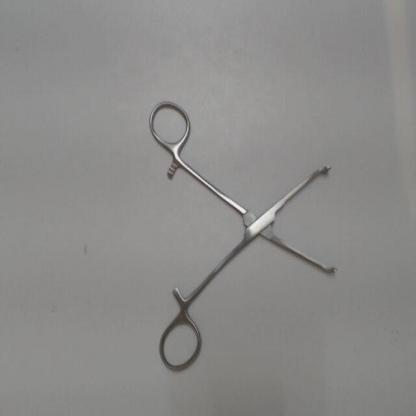Allis Tissue Forceps: (144, 94, 341, 376)
